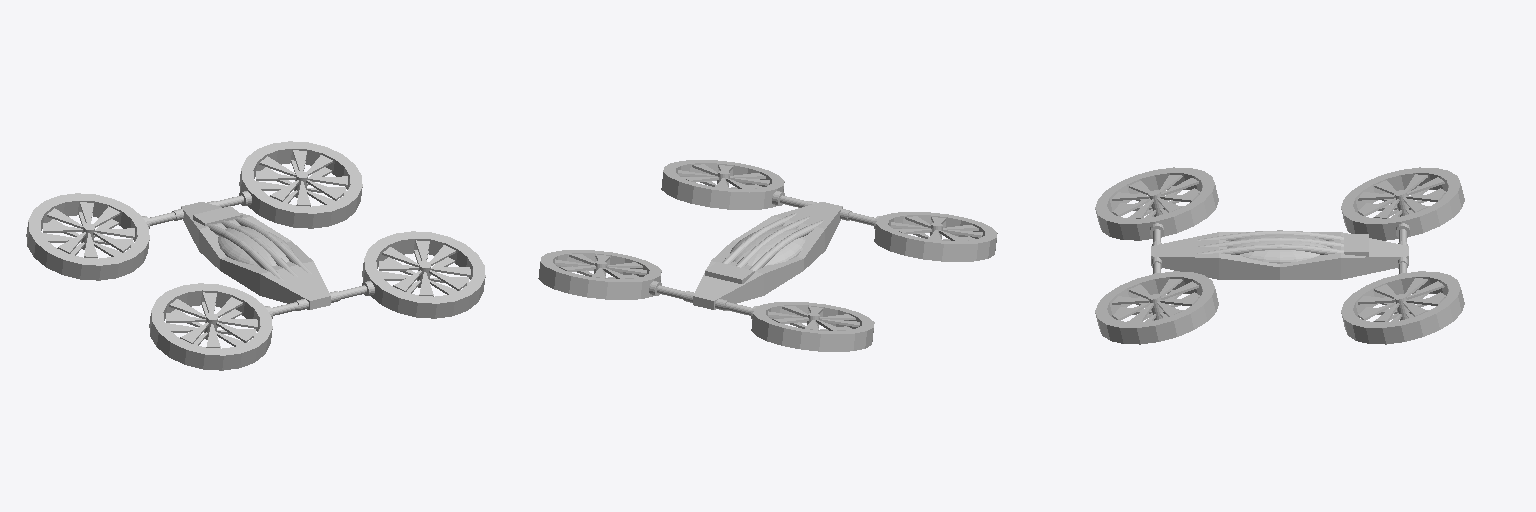
File: Drone02.obj
3 views of the same model, side by side, from view 1: azimuth 30°, elevation 25°; view 2: azimuth 150°, elevation 25°; view 3: azimuth 270°, elevation 25° (orthographic).
Visible parts, largest first — view 1: pPipe4, pPipe1, pPipe3, pPipe2, pCube1, pCylinder25, pCylinder29, pCylinder27, pCylinder24, pSphere1, pCylinder11, pCylinder26 (+4 smaller); view 2: pCube1, pPipe4, pPipe1, pPipe3, pPipe2, pSphere1, pCylinder25, pCylinder29, pCylinder24, pCylinder27, pCube2, pCylinder14; view 3: pCube1, pPipe3, pPipe2, pPipe4, pPipe1, pCylinder25, pCylinder29, pCylinder24, pCylinder27, pSphere1, pCylinder15, pCylinder14 (+2 smaller).
Part boxes in pixels (left/top/right/bottom): pPipe4: left=149, top=283, right=272, bottom=370; pPipe1: left=26, top=193, right=149, bottom=280; pPipe3: left=362, top=231, right=485, bottom=318; pPipe2: left=239, top=141, right=362, bottom=228; pCube1: left=181, top=202, right=330, bottom=309; pCylinder25: left=43, top=202, right=134, bottom=257; pCylinder29: left=256, top=150, right=347, bottom=206; pCylinder27: left=378, top=240, right=470, bottom=296; pCylinder24: left=165, top=292, right=257, bottom=347; pSphere1: left=218, top=226, right=293, bottom=265; pCylinder11: left=43, top=212, right=133, bottom=256; pCylinder26: left=378, top=250, right=469, bottom=294; pCube1: left=693, top=202, right=842, bottom=309; pPipe4: left=874, top=212, right=997, bottom=261; pPipe1: left=751, top=302, right=874, bottom=351; pPipe3: left=661, top=160, right=784, bottom=209; pPipe2: left=538, top=250, right=661, bottom=299; pSphere1: left=730, top=226, right=805, bottom=265; pCylinder25: left=768, top=306, right=859, bottom=330; pCylinder29: left=555, top=254, right=646, bottom=278; pCylinder24: left=890, top=216, right=982, bottom=240; pCylinder27: left=678, top=164, right=769, bottom=188; pCube2: left=705, top=262, right=754, bottom=283; pCylinder14: left=749, top=220, right=823, bottom=270; pCube1: left=1151, top=232, right=1408, bottom=279; pPipe3: left=1095, top=271, right=1218, bottom=344; pPipe2: left=1341, top=271, right=1464, bottom=344; pPipe4: left=1095, top=167, right=1218, bottom=240; pPipe1: left=1341, top=167, right=1464, bottom=240; pCylinder25: left=1358, top=174, right=1444, bottom=218; pCylinder29: left=1358, top=278, right=1444, bottom=321; pCylinder24: left=1112, top=175, right=1198, bottom=218; pCylinder27: left=1112, top=279, right=1198, bottom=321; pSphere1: left=1230, top=235, right=1329, bottom=263; pCylinder15: left=1197, top=244, right=1343, bottom=254; pCylinder14: left=1197, top=230, right=1343, bottom=240.
Bounding box in the file's own units: 6 × 0.7231 × 6.02.